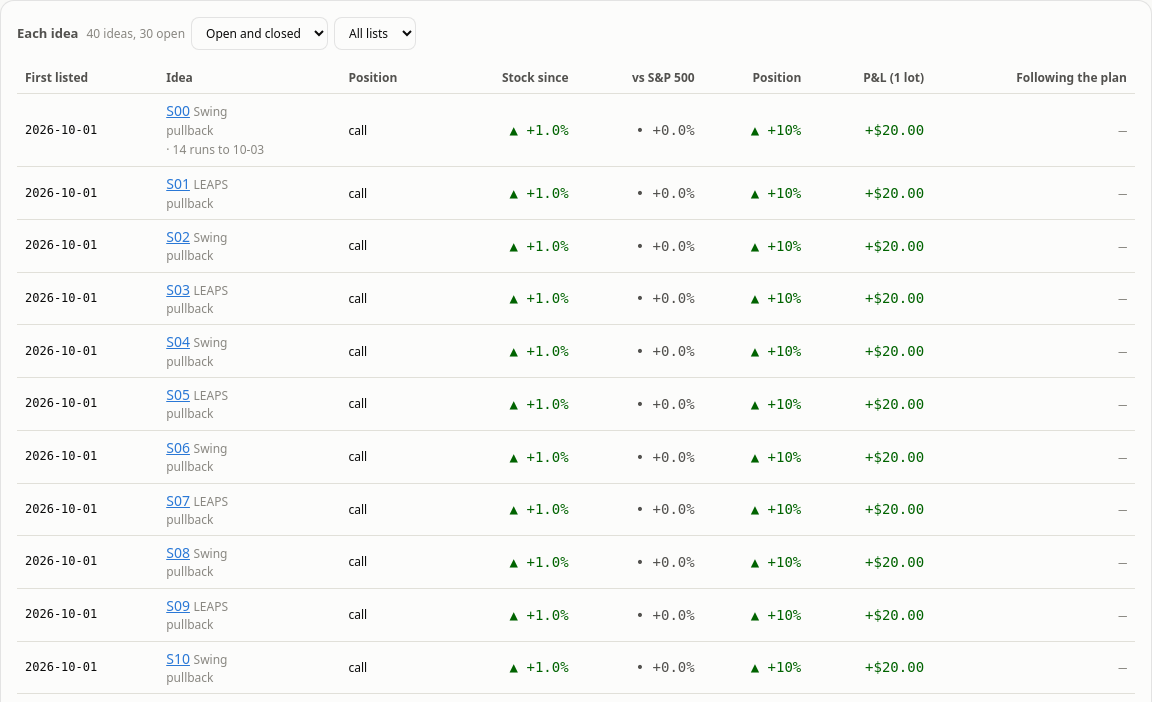
it: TrackedIdeas › filters to the open or the closed ones
Select "Closed" in the dropdown named "State" at (260, 34), box [191,17,328,50]
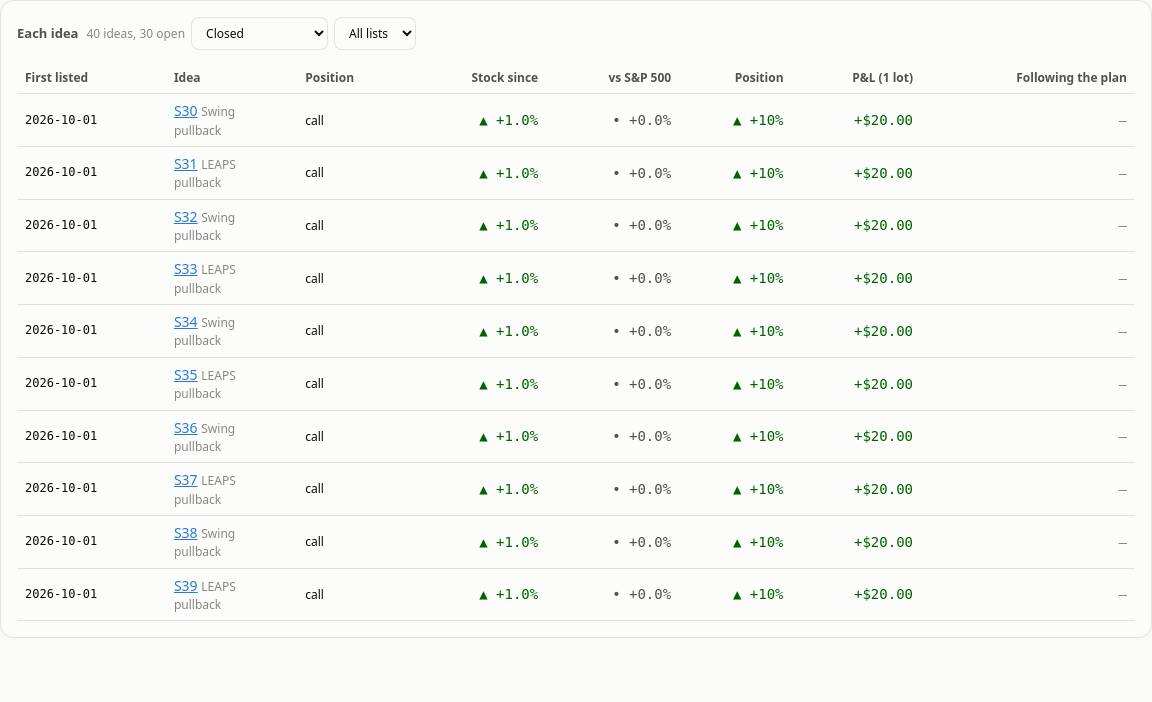
Check: the number of rows is 11
